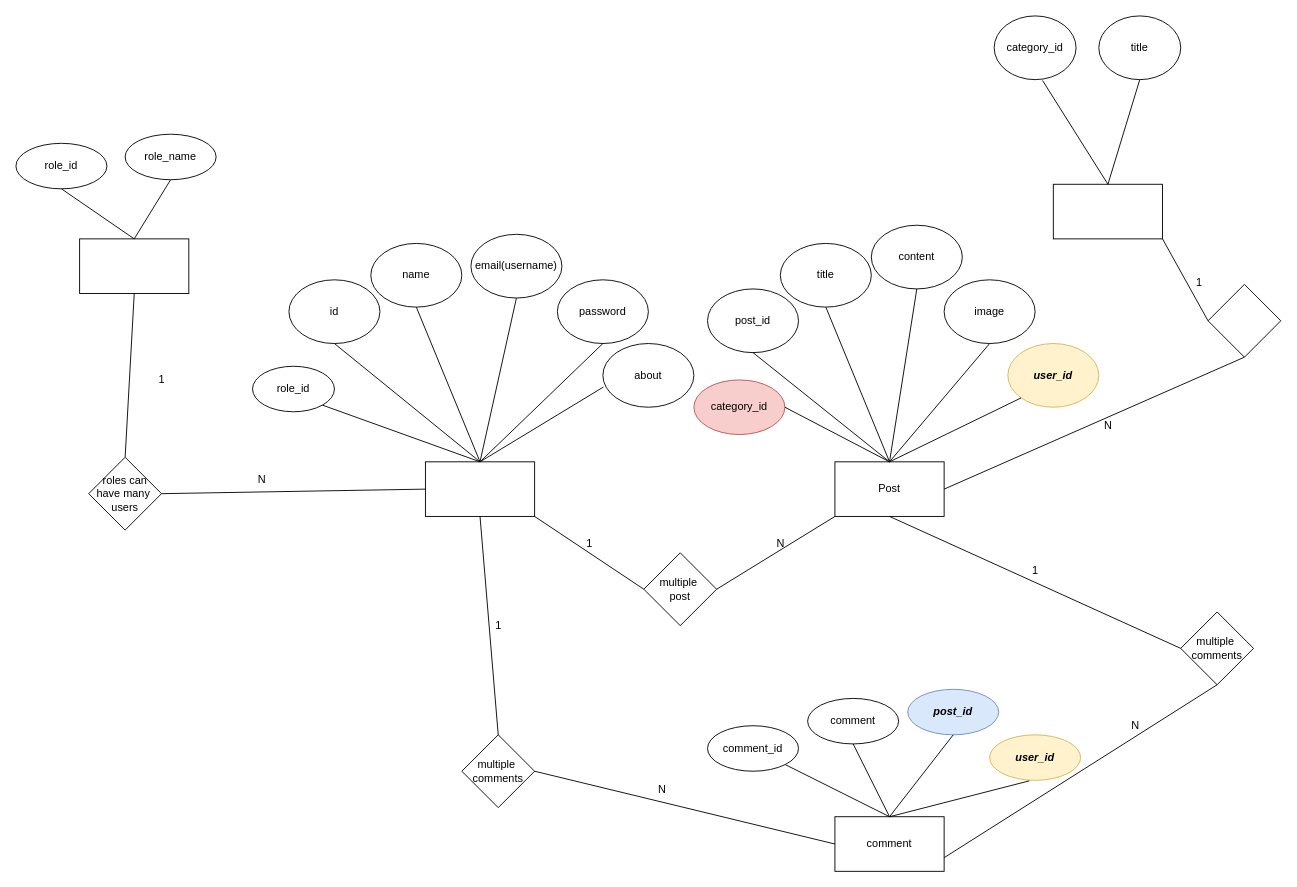
This 1297x887 diagram has some shape labels left out. The centre of each missing label's shape, as x and y in pixels:
Category: (x=1107, y=211)
Contains Post: (x=1244, y=320)
Role: (x=134, y=265)
User: (x=480, y=488)
